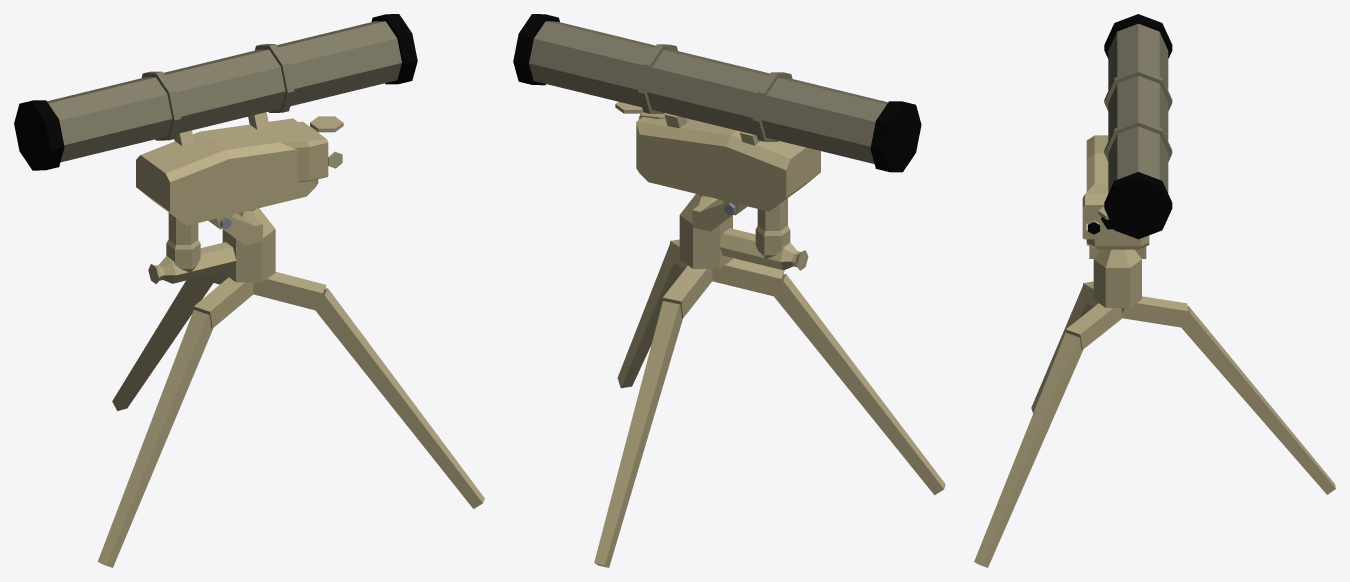
The model's file is ПТРК Корнет.glb.
The picture shows the model from 3 angles, left to right: view 1: azimuth 30°, elevation 25°; view 2: azimuth 150°, elevation 25°; view 3: azimuth 270°, elevation 25°; orthographic projection. The views are drawn at different scales.
Visible parts, largest first — view 1: Cube.001, Cube, Cube.008, Cube.004, Cube.006, Cylinder.002, Cylinder.004, Cube.003, Cube.007, Cylinder.003, Cube.002; view 2: Cube.001, Cube, Cube.006, Cube.008, Cube.004, Cylinder.002, Cylinder.004, Cube.007, Cylinder.003, Cube.005, Cube.002; view 3: Cube.001, Cube.004, Cube.006, Cube, Cylinder.002, Cube.005, Cube.003, Cube.008.
Boxes of the visible parts, x1,y1,x2,y2 form: Cube.001: (14,14,417,170); Cube: (136,112,328,229); Cube.008: (98,310,213,567); Cube.004: (316,288,484,508); Cube.006: (112,277,213,410); Cylinder.002: (222,208,275,282); Cylinder.004: (148,242,237,283); Cube.003: (253,272,326,311); Cube.007: (194,277,253,328); Cylinder.003: (166,212,200,272); Cube.002: (223,213,262,245); Cube.001: (513,14,921,172); Cube: (636,112,820,215); Cube.006: (594,301,682,567); Cube.008: (774,273,945,495); Cube.004: (617,244,684,388); Cylinder.002: (679,194,732,268); Cylinder.004: (718,228,808,270); Cube.007: (712,258,784,297); Cylinder.003: (755,198,790,258); Cube.005: (662,265,712,318); Cube.002: (692,199,732,231); Cube.001: (1104,14,1172,239); Cube.004: (974,332,1083,567); Cube.006: (1181,306,1335,494); Cube: (1082,135,1149,249); Cylinder.002: (1093,249,1141,307); Cube.005: (1121,296,1188,327); Cube.003: (1065,303,1122,349); Cube.008: (1031,286,1093,413).
Bounding box in the file's own units: 1.3 × 1.45 × 1.21.
